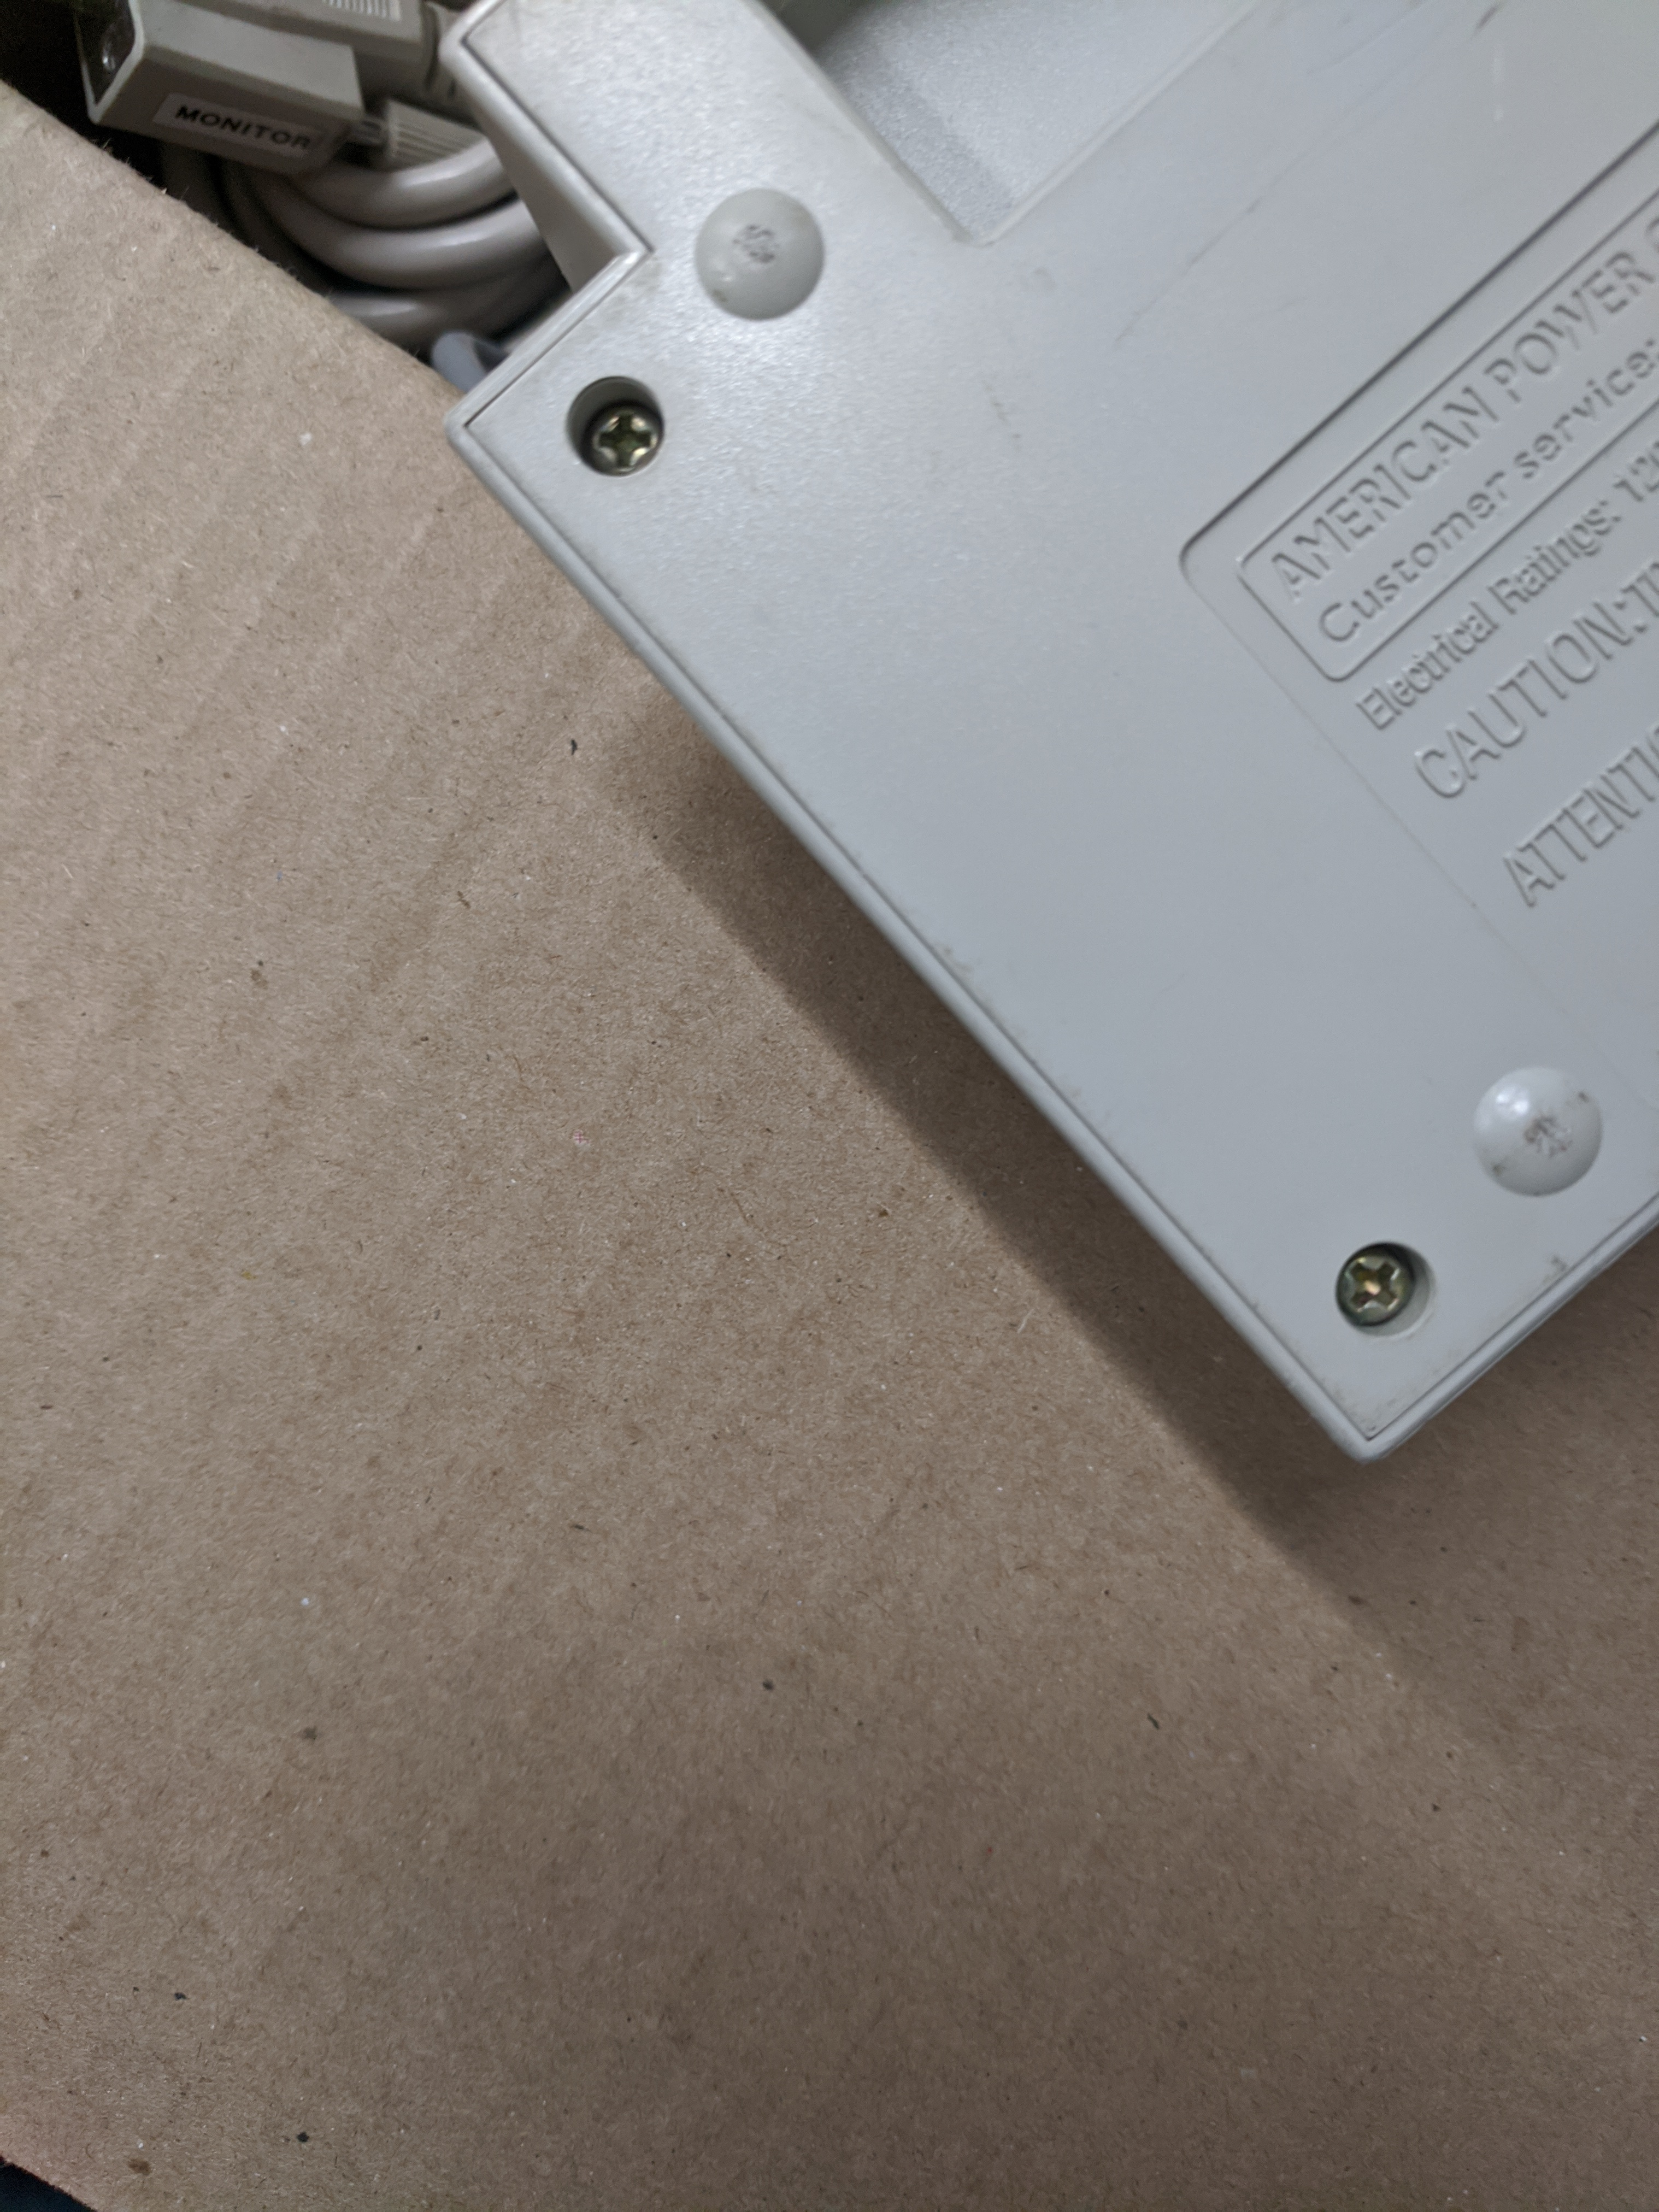cross_recessed_screw: (1321, 1223, 1439, 1334), (554, 371, 674, 479)
